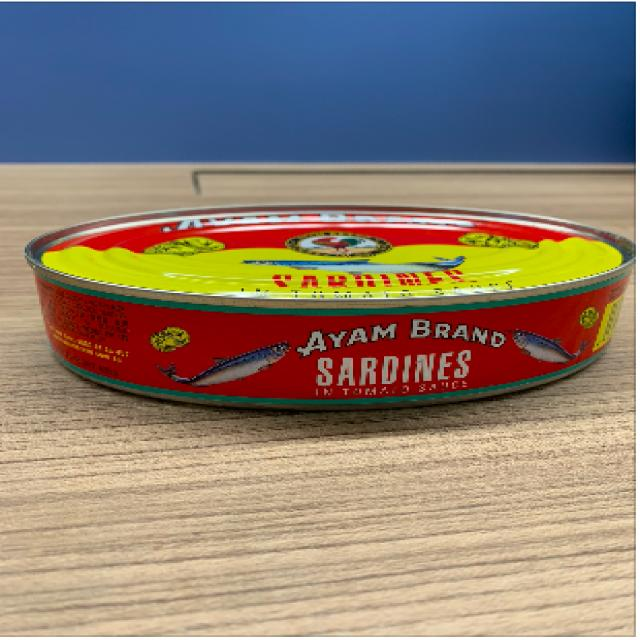object_name: (34, 214, 627, 388)
